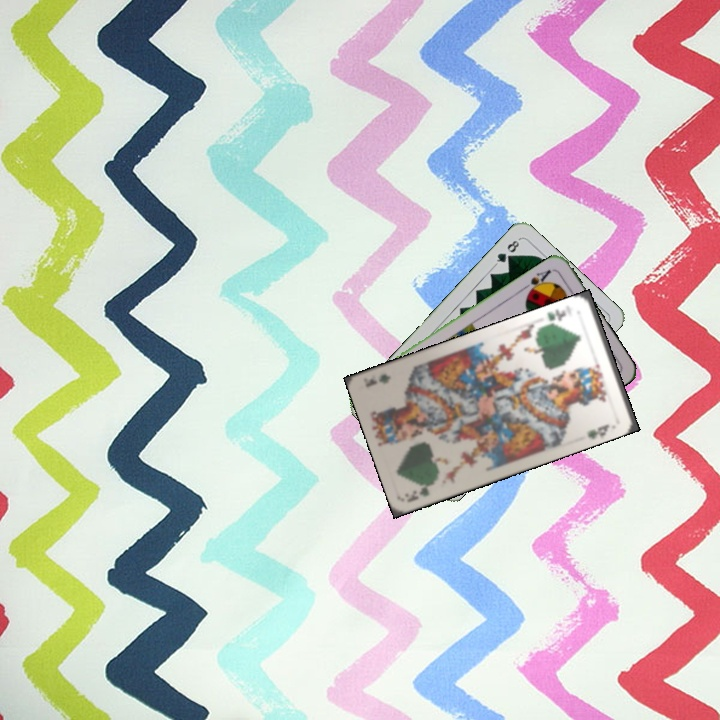G8: (491, 235, 523, 268)
GK: (404, 477, 440, 505), (541, 305, 569, 328)
SA: (519, 265, 554, 298)
